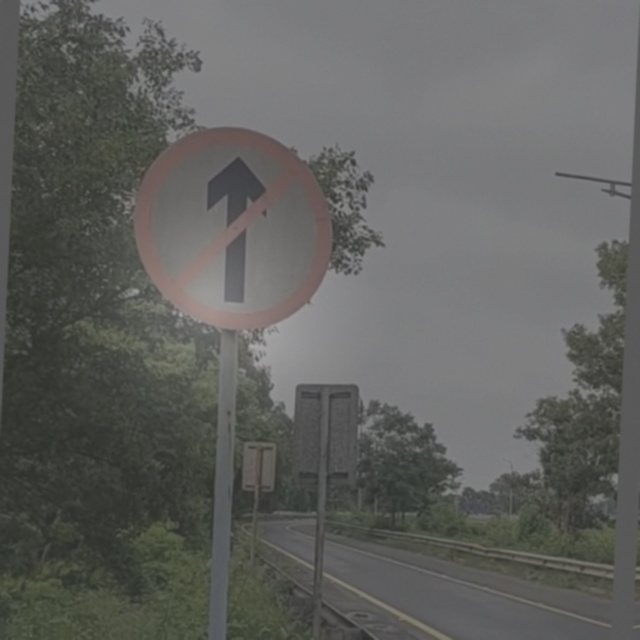No_Entry: (129, 127, 336, 332)
